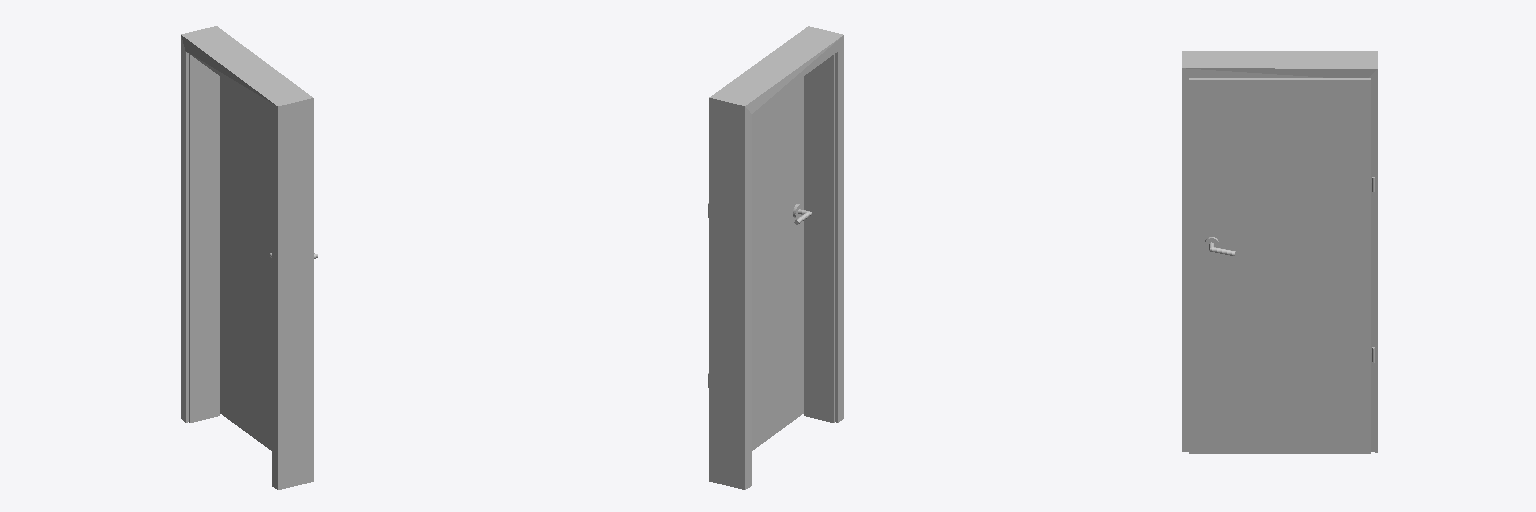
Rendered from door91.obj.
The picture shows the model from 3 angles: view 1: azimuth 30°, elevation 25°; view 2: azimuth 150°, elevation 25°; view 3: azimuth 270°, elevation 25°; orthographic projection.
Parts seen in each view (by area): view 1: Cylinder.005, Cylinder.001; view 2: Cylinder.005, Cylinder.001; view 3: Cylinder.001, Cylinder.005.
Boxes of the visible parts, x1,y1,x2,y2 form: Cylinder.005: [181, 26, 313, 489]; Cylinder.001: [220, 77, 271, 450]; Cylinder.005: [708, 26, 843, 489]; Cylinder.001: [708, 77, 803, 450]; Cylinder.001: [1189, 78, 1374, 453]; Cylinder.005: [1182, 51, 1377, 452].
Bounding box in the file's own units: 0.3039 × 2.05 × 0.95.